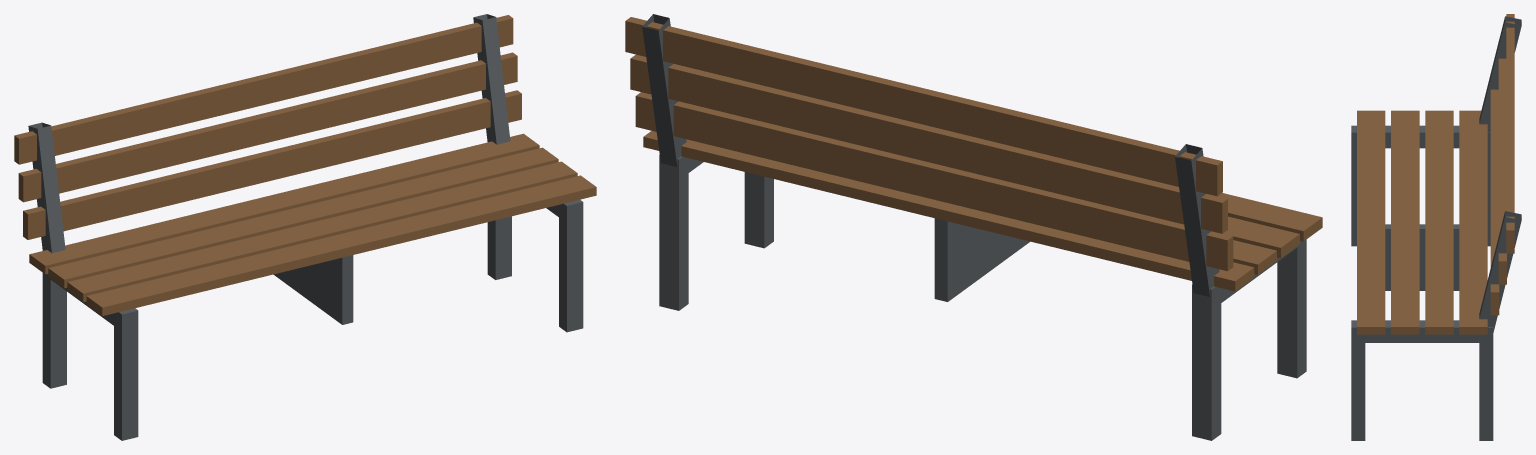
File: tokyo_bench.glb
3 views of the same model, side by side, from view 1: azimuth 30°, elevation 25°; view 2: azimuth 150°, elevation 25°; view 3: azimuth 270°, elevation 25° (orthographic). The views are drawn at different scales.
Visible parts, largest first — view 1: tokyo_bench; view 2: tokyo_bench; view 3: tokyo_bench.
Part boxes in pixels (bbox=[...]): tokyo_bench: bbox=[14, 14, 596, 440]; tokyo_bench: bbox=[625, 14, 1322, 440]; tokyo_bench: bbox=[1351, 14, 1521, 440].
Size of the model in its own units: 1.8 by 0.8666 by 0.5993.
Materials: 1 (1 with a texture image).
